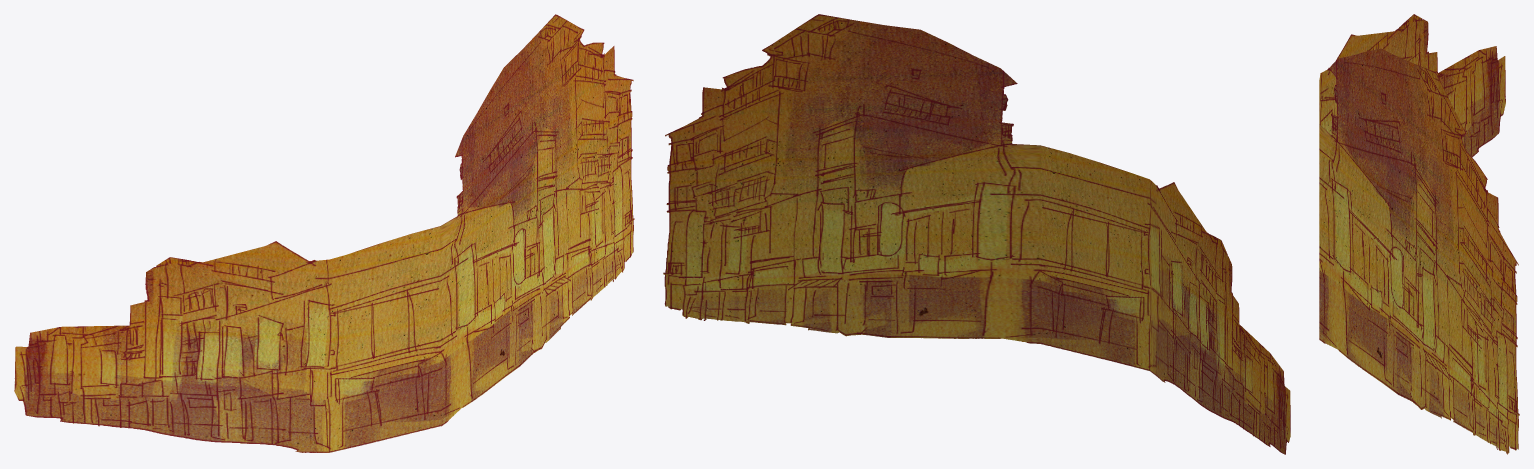
The model's file is house.fbx.
3 views of the same model, side by side, from view 1: azimuth 30°, elevation 25°; view 2: azimuth 150°, elevation 25°; view 3: azimuth 270°, elevation 25° (orthographic). The views are drawn at different scales.
Visible parts, largest first — view 1: house1_bw1; view 2: house1_bw1; view 3: house1_bw1.
Boxes of the visible parts, x1,y1,x2,y2 form: house1_bw1: (14, 14, 634, 452); house1_bw1: (663, 14, 1290, 454); house1_bw1: (1319, 14, 1519, 454).
Size of the model in its own units: 231 by 117 by 59.6.
1 material, 1 textured.
